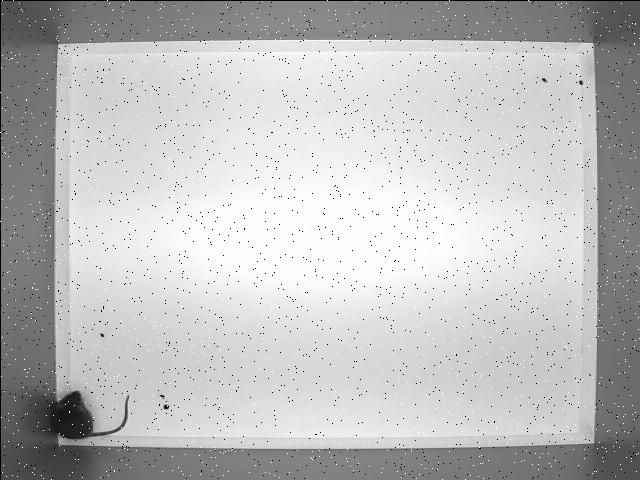Tikus: (44, 384, 146, 449)
